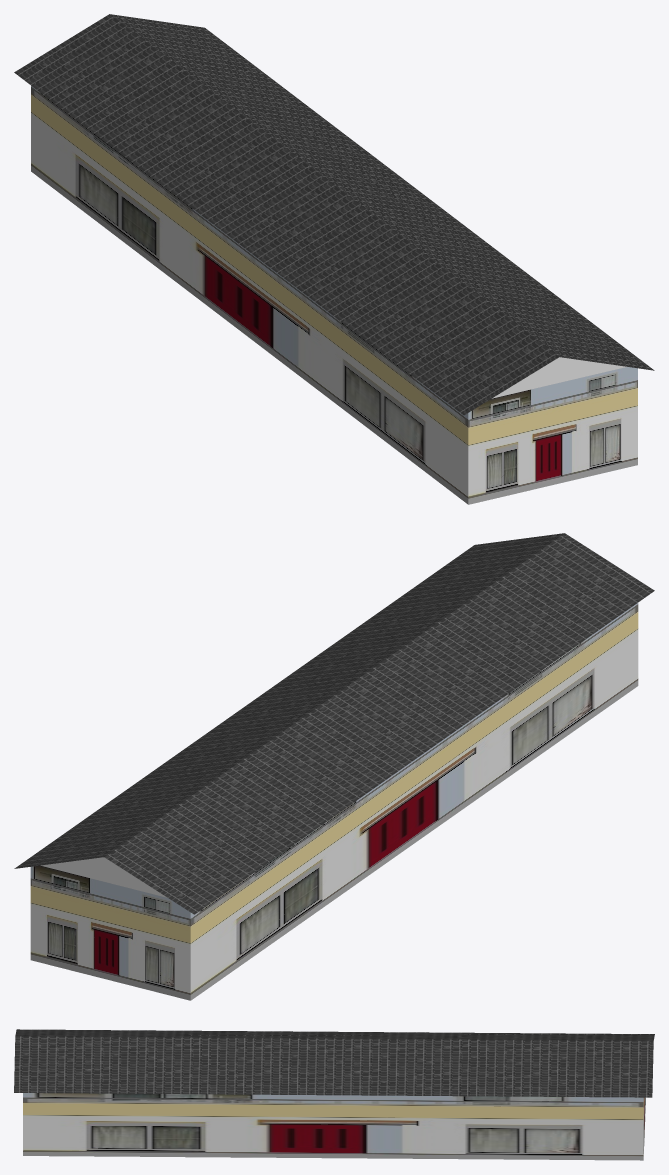
3 renders of one model, top to bottom at view 1: azimuth 30°, elevation 25°; view 2: azimuth 150°, elevation 25°; view 3: azimuth 270°, elevation 25°, orthographic. The views are drawn at different scales.
Visible parts, largest first — view 1: CityEngineMaterial_16_m, CityEngineMaterial_15_m, CityEngineMaterial_3_m; view 2: CityEngineMaterial_16_m, CityEngineMaterial_15_m, CityEngineMaterial_3_m; view 3: CityEngineMaterial_16_m, CityEngineMaterial_15_m.
Boxes of the visible parts, x1,y1,x2,y2 form: CityEngineMaterial_16_m: (14,14,654,415); CityEngineMaterial_15_m: (31,86,637,504); CityEngineMaterial_3_m: (492,357,626,398); CityEngineMaterial_16_m: (14,533,654,914); CityEngineMaterial_15_m: (30,603,638,1000); CityEngineMaterial_3_m: (41,857,167,897); CityEngineMaterial_16_m: (14,1029,654,1097); CityEngineMaterial_15_m: (23,1093,645,1160).
Size of the model in its own units: 17.99 by 11.24 by 71.52.
